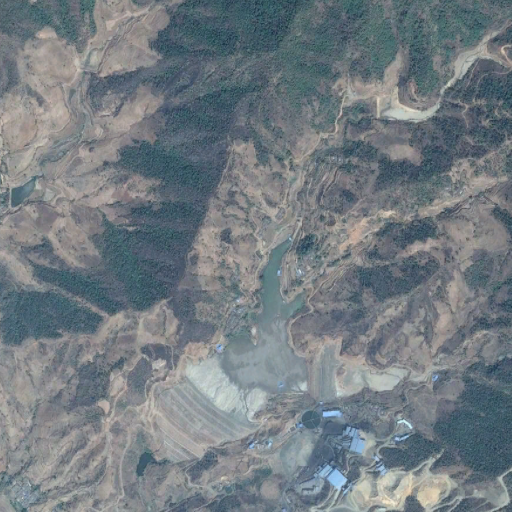tp: (138, 240, 409, 461)
